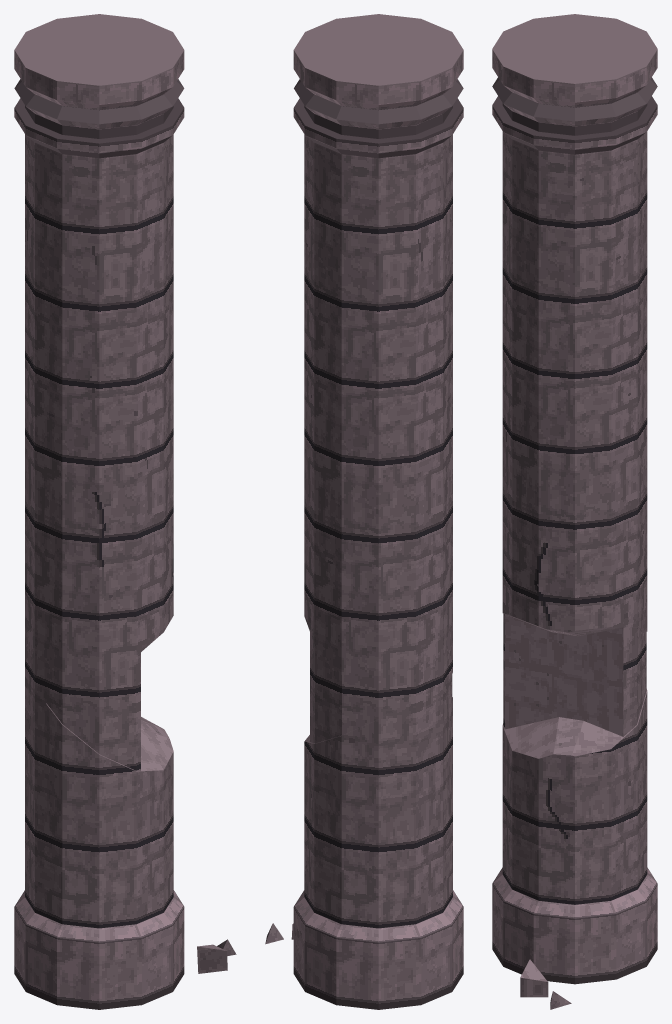
The model's file is saeule_z1_treffer1.glb.
3 views of the same model, side by side, from view 1: azimuth 30°, elevation 25°; view 2: azimuth 150°, elevation 25°; view 3: azimuth 270°, elevation 25° (orthographic). The views are drawn at different scales.
Visible parts, largest first — view 1: saeule_z1_treffer1; view 2: saeule_z1_treffer1; view 3: saeule_z1_treffer1.
Boxes of the visible parts, x1,y1,x2,y2 form: saeule_z1_treffer1: (14, 14, 236, 1009); saeule_z1_treffer1: (265, 14, 463, 1009); saeule_z1_treffer1: (492, 14, 657, 1009).
Size of the model in its own units: 1.35 by 6.01 by 1.
Materials: 1 (1 with a texture image).
